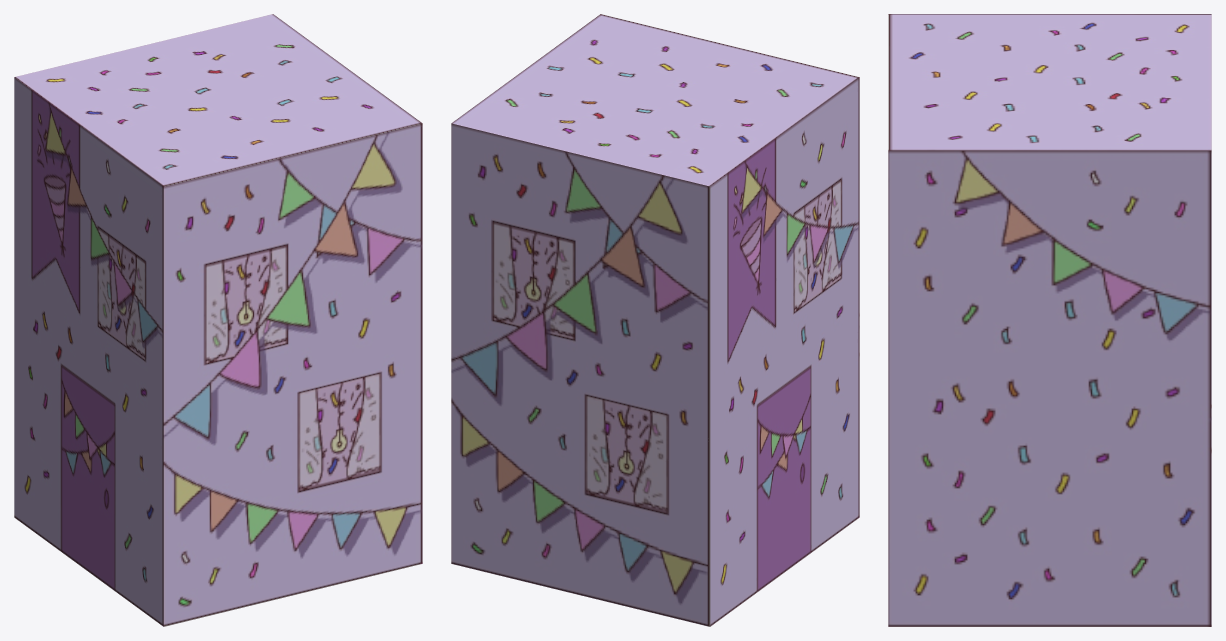
The model's file is building_partyGoodsStore.fbx.
The picture shows the model from 3 angles, left to right: view 1: azimuth 30°, elevation 25°; view 2: azimuth 150°, elevation 25°; view 3: azimuth 270°, elevation 25°; orthographic projection. The views are drawn at different scales.
Parts seen in each view (by area): view 1: Box002; view 2: Box002; view 3: Box002.
Boxes of the visible parts, left/top/right/bottom form: Box002: left=14, top=14, right=422, bottom=626; Box002: left=451, top=14, right=859, bottom=626; Box002: left=888, top=14, right=1211, bottom=626.
Bounding box in the file's own units: 80 × 130 × 80.
Materials: 1 (1 with a texture image).
